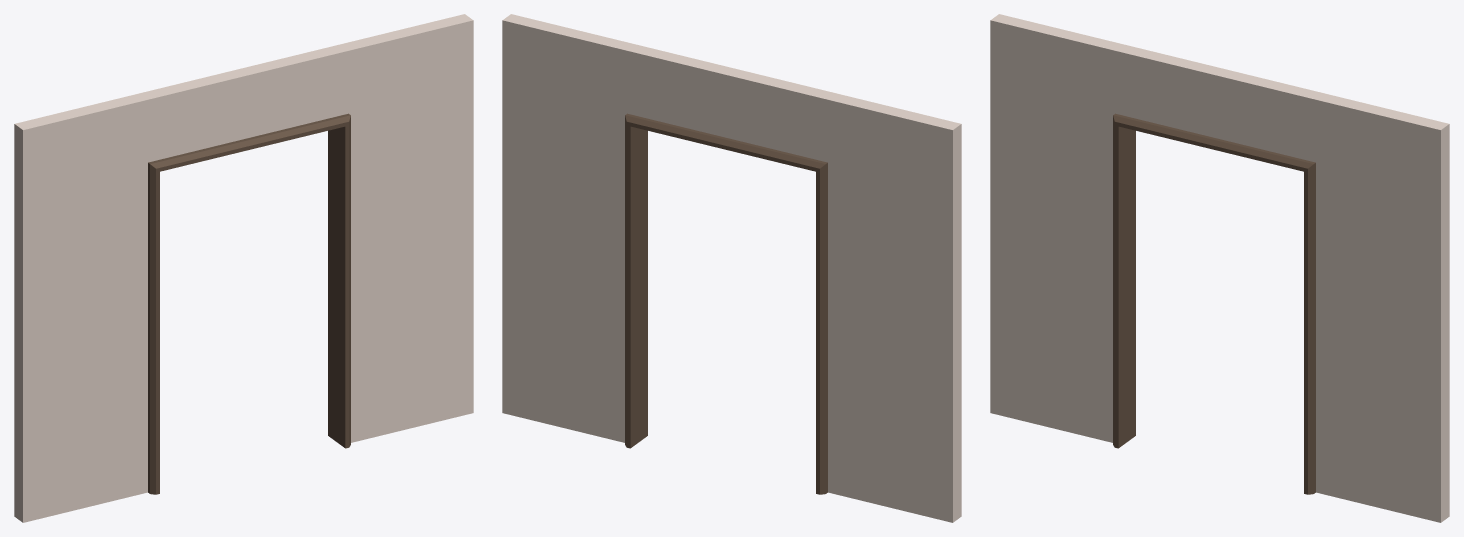
Rendered from Door_Wall.fbx.
3 renders of one model, left to right at view 1: azimuth 30°, elevation 25°; view 2: azimuth 150°, elevation 25°; view 3: azimuth 330°, elevation 25°, orthographic.
Parts seen in each view (by area): view 1: Door_Frame; view 2: Door_Frame; view 3: Door_Frame.
Boxes of the visible parts, x1,y1,x2,y2 form: Door_Frame: (14, 14, 473, 522); Door_Frame: (502, 14, 961, 522); Door_Frame: (990, 14, 1449, 522).
Size of the model in its own units: 300 by 250 by 20.
